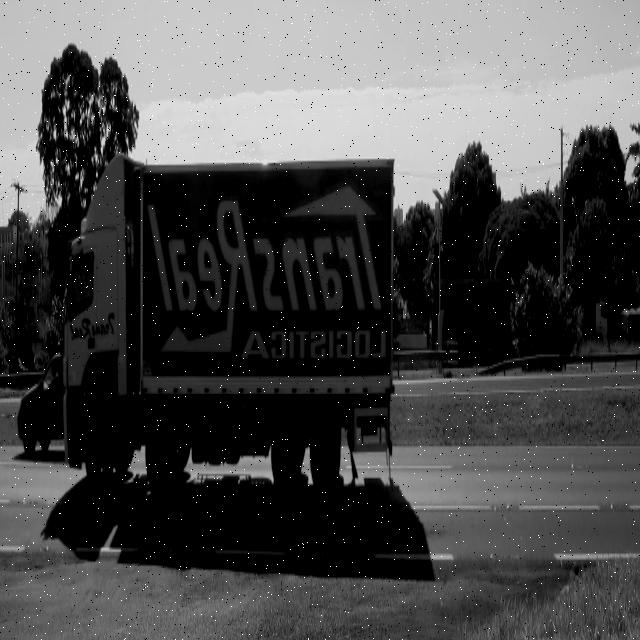-axle: (143, 405, 176, 494), (309, 413, 342, 501), (270, 412, 303, 498), (82, 408, 112, 498)
